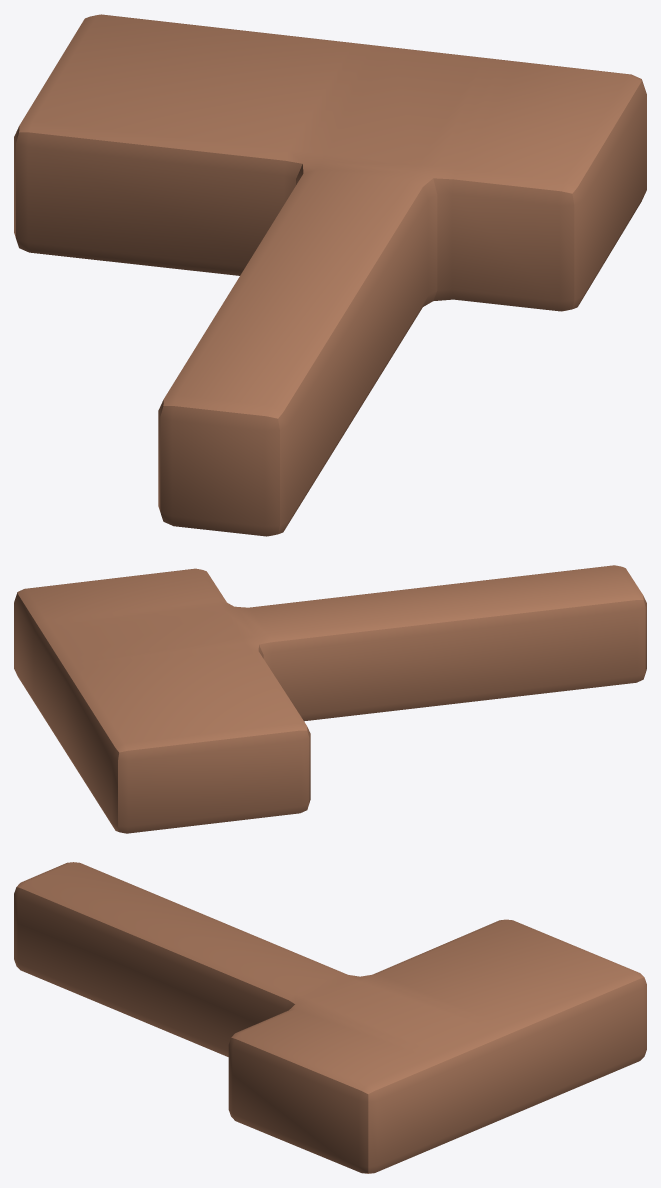
Rendered from SymbolHammer.fbx.
3 renders of one model, top to bottom at view 1: azimuth 30°, elevation 25°; view 2: azimuth 150°, elevation 25°; view 3: azimuth 270°, elevation 25°, orthographic. The views are drawn at different scales.
Visible parts, largest first — view 1: HammerSymbol; view 2: HammerSymbol; view 3: HammerSymbol.
Boxes of the visible parts, box(x1,y1,x2,y2) form: HammerSymbol: box(14, 14, 646, 536); HammerSymbol: box(14, 565, 646, 833); HammerSymbol: box(14, 862, 646, 1173).
Bounding box in the file's own units: 8.52 × 1.52 × 9.76.
